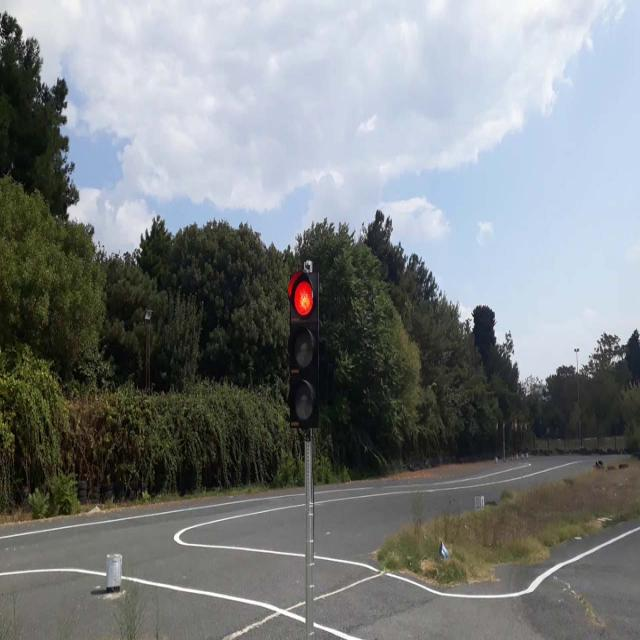kirmizi: (289, 270, 319, 420)
